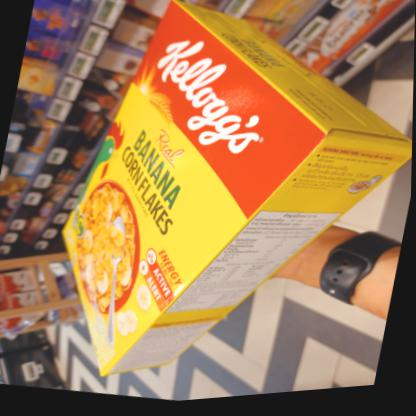i: (30, 0, 415, 413)
